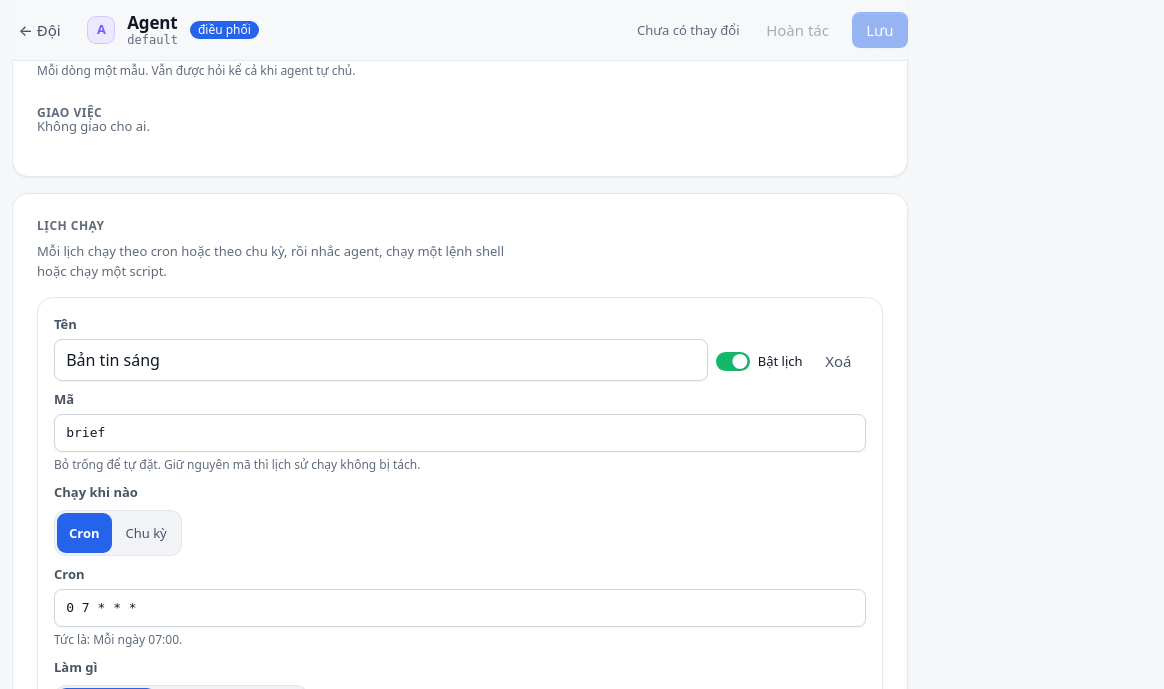
Scenario: a script row the server numbered by its place › goes back under that id the next time the schedules are saved, with nothing typed in its row
(page scrolled)
Type " sớm" into the field labelled "Tên" at (381, 360), box [54, 339, 708, 381]
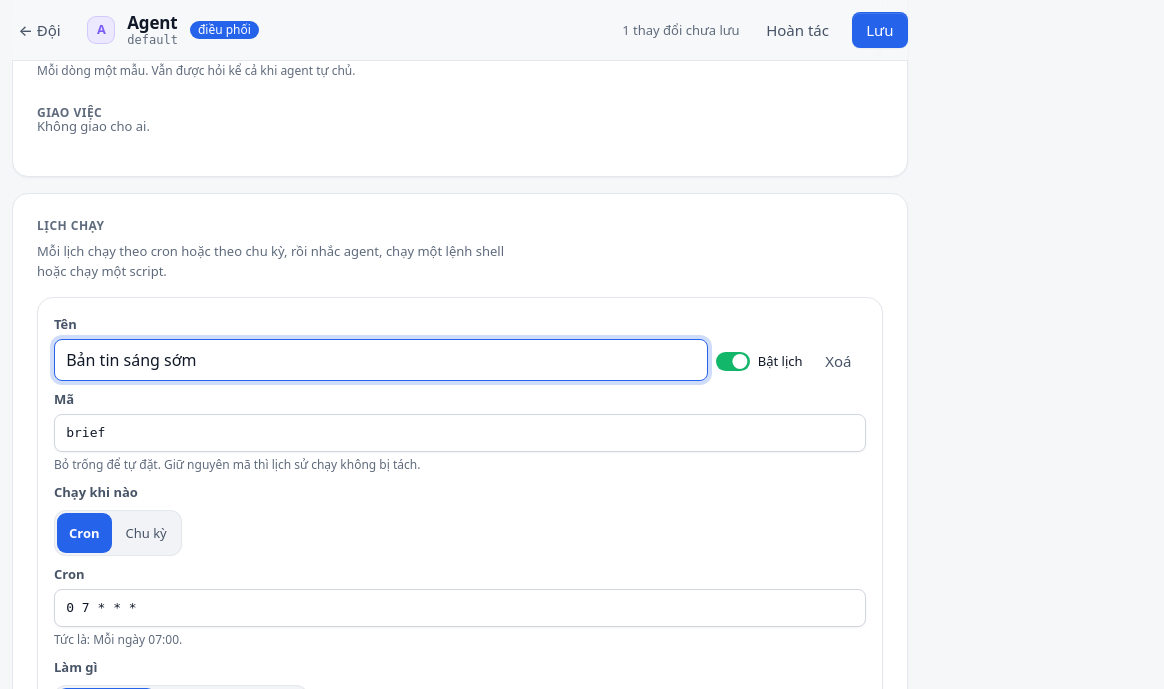
Click the button "Lưu" at (880, 30), box [852, 12, 908, 48]
(page scrolled)
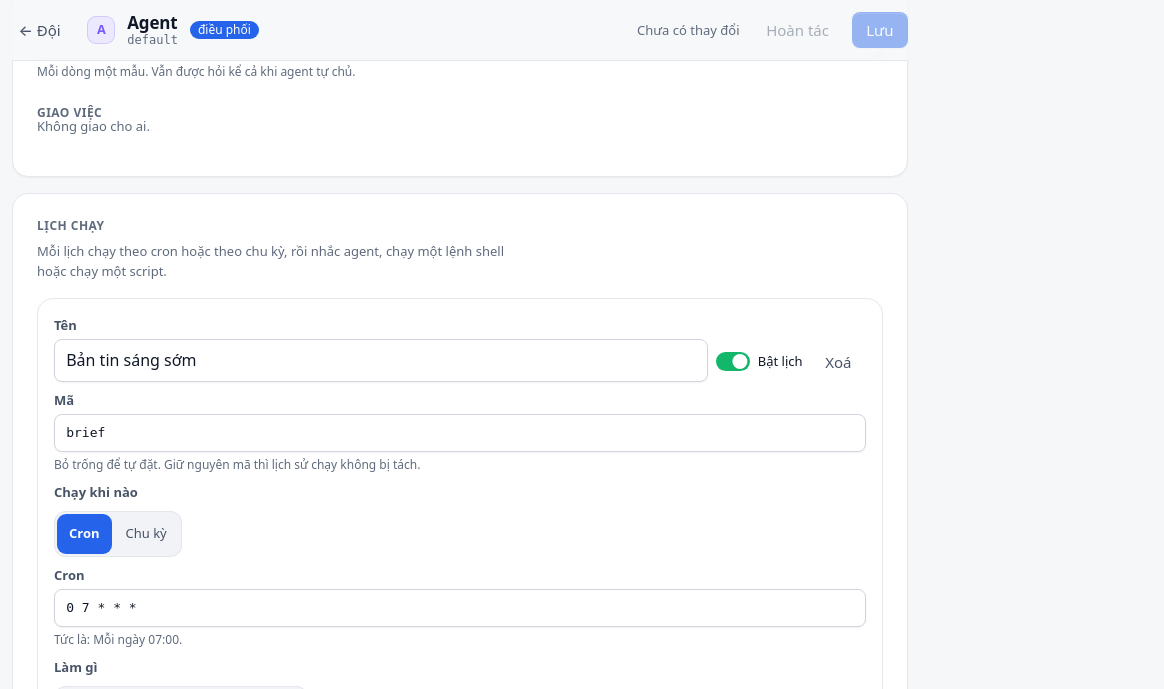
Expected: the button "Lưu" is disabled, [852, 12, 908, 48]
